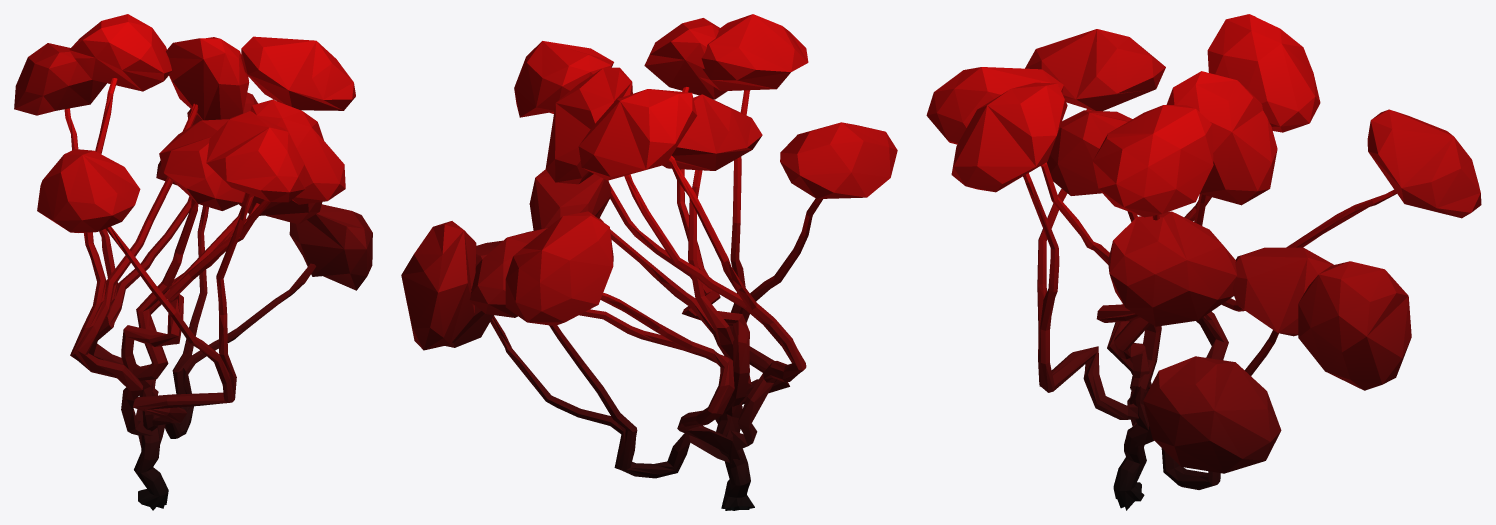
The model's file is TreeHiatus04.fbx.
The picture shows the model from 3 angles, left to right: view 1: azimuth 30°, elevation 25°; view 2: azimuth 150°, elevation 25°; view 3: azimuth 270°, elevation 25°; orthographic projection. The views are drawn at different scales.
Parts seen in each view (by area): view 1: TreeHiatus04_LOD0; view 2: TreeHiatus04_LOD0; view 3: TreeHiatus04_LOD0.
Part boxes in pixels (box(x1,y1,x2,y2)): TreeHiatus04_LOD0: box(14, 14, 372, 510); TreeHiatus04_LOD0: box(401, 14, 897, 510); TreeHiatus04_LOD0: box(926, 14, 1481, 510).
Size of what is drawn, in the model's own units: 1573 by 1770 by 1810.
